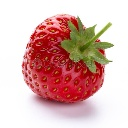strawberry: (21, 10, 111, 104)
